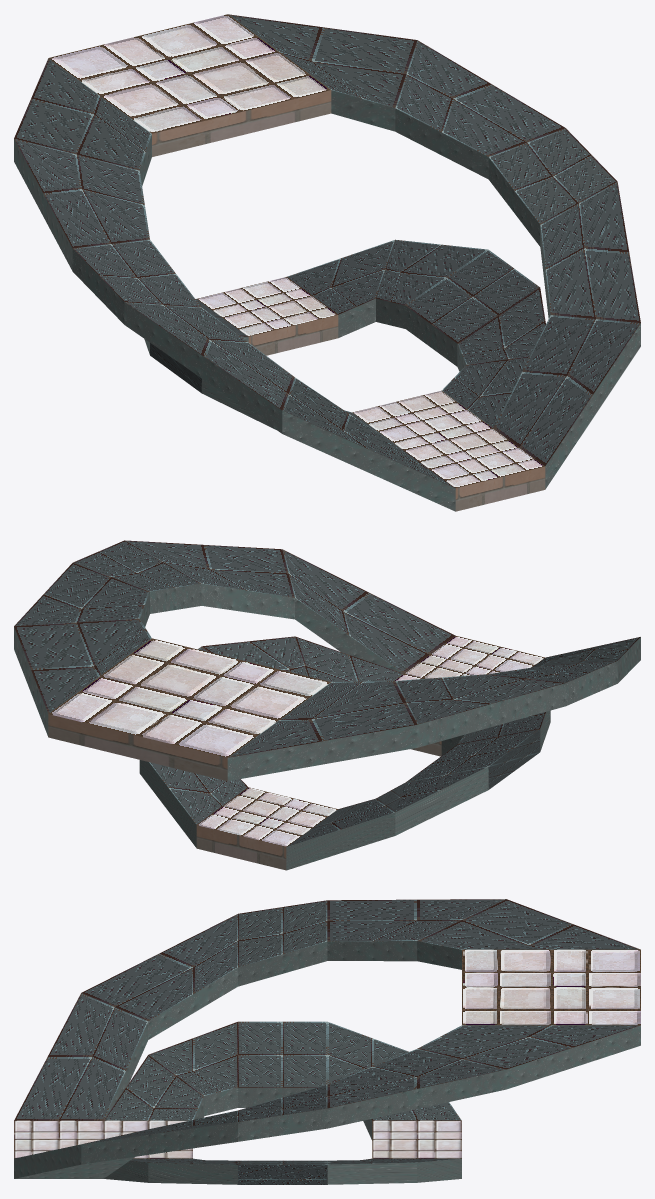
Rendered from top_mesh.glb.
The picture shows the model from 3 angles, top to bottom: view 1: azimuth 30°, elevation 25°; view 2: azimuth 150°, elevation 25°; view 3: azimuth 270°, elevation 25°; orthographic projection. The views are drawn at different scales.
Visible parts, largest first — view 1: FinalMesh; view 2: FinalMesh; view 3: FinalMesh.
Boxes of the visible parts, x1,y1,x2,y2 form: FinalMesh: [14, 14, 640, 511]; FinalMesh: [14, 540, 640, 870]; FinalMesh: [14, 899, 640, 1184].
Bounding box in the file's own units: 22 × 8.66 × 28.
4 materials, 4 textured.
